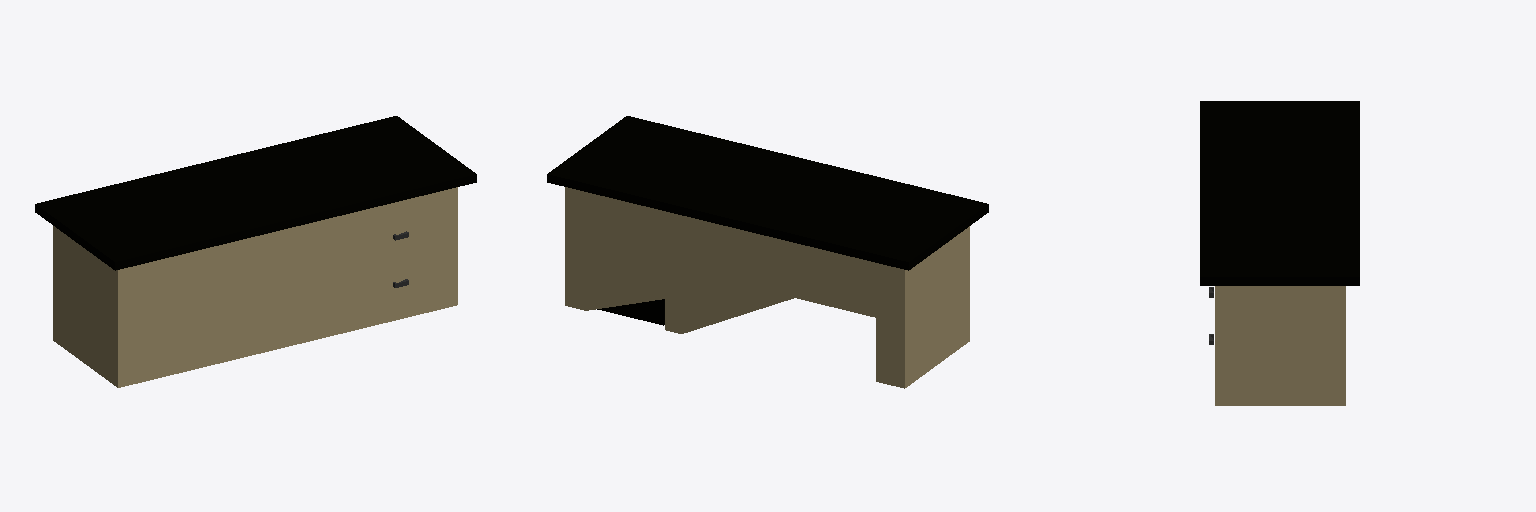
File: Additive_Table_Mesh.obj
3 renders of one model, left to right at view 1: azimuth 30°, elevation 25°; view 2: azimuth 150°, elevation 25°; view 3: azimuth 270°, elevation 25°, orthographic.
Parts seen in each view (by area): view 1: polySurface23, polySurface13 polySurface19; view 2: polySurface23, polySurface13 polySurface19, polySurface13 polySurface17; view 3: polySurface13 polySurface19, polySurface23.
Part boxes in pixels (left/top/right/bottom): polySurface23: left=53, top=187, right=457, bottom=387; polySurface13 polySurface19: left=35, top=116, right=476, bottom=270; polySurface23: left=565, top=187, right=969, bottom=388; polySurface13 polySurface19: left=547, top=116, right=988, bottom=270; polySurface13 polySurface17: left=597, top=299, right=664, bottom=325; polySurface13 polySurface19: left=1200, top=101, right=1359, bottom=285; polySurface23: left=1215, top=286, right=1345, bottom=405.
Size of the model in its own units: 18.18 by 6.44 by 6.95.